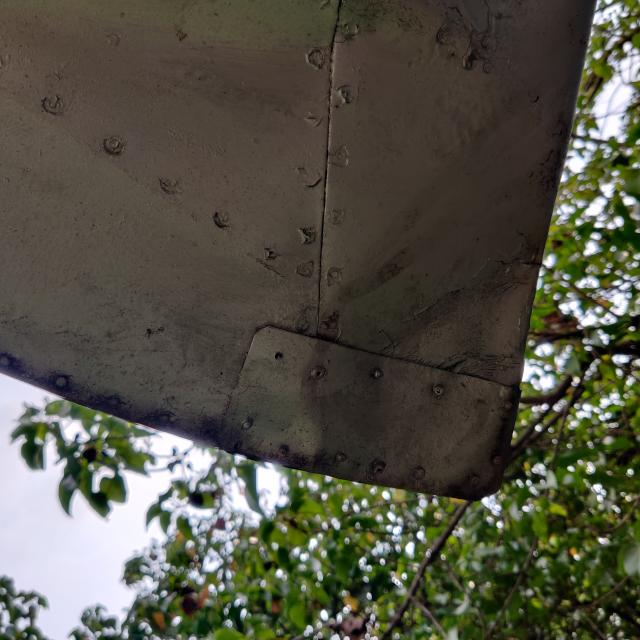dent: (282, 254, 518, 523)
